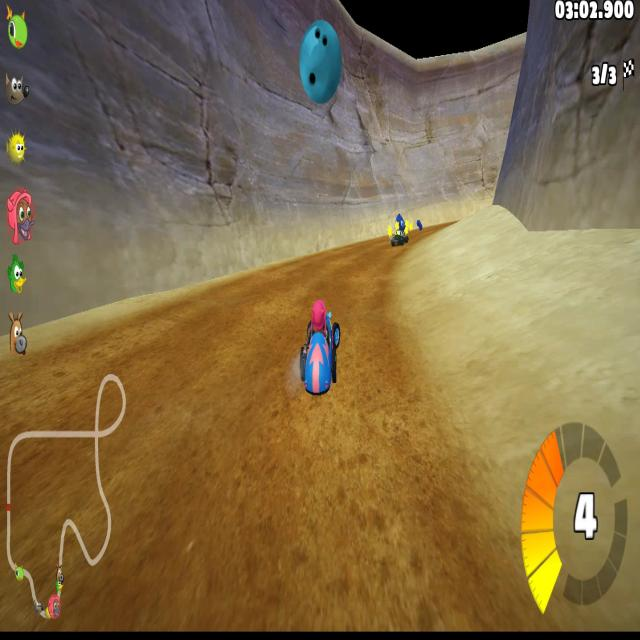player_kart: (300, 306, 341, 398)
track: (1, 356, 295, 628), (297, 403, 457, 630), (460, 494, 518, 628), (131, 308, 298, 354), (356, 240, 395, 406), (194, 281, 299, 309), (303, 272, 354, 306), (288, 256, 355, 274), (254, 263, 291, 285), (432, 220, 456, 228), (341, 241, 352, 253)
